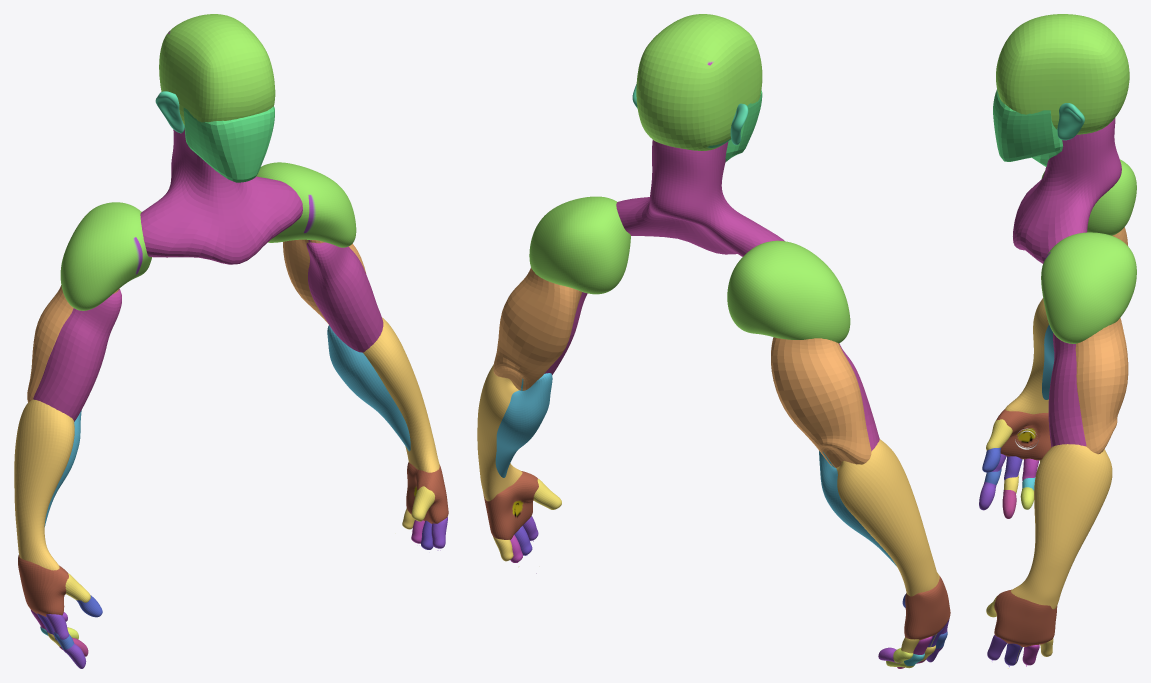
The model's file is full_rigg.glb.
3 views of the same model, side by side, from view 1: azimuth 30°, elevation 25°; view 2: azimuth 150°, elevation 25°; view 3: azimuth 270°, elevation 25° (orthographic). The views are drawn at different scales.
Visible parts, largest first — view 1: head&shoulder, bicep_right, right_forearm, left_forearm, bicep_left, Circle, left_palm; view 2: head&shoulder, bicep_right, right_forearm, bicep_left, left_forearm, left_palm, Circle; view 3: head&shoulder, left_forearm, bicep_left, left_palm, Circle, right_forearm, right_middle, right_index, right_ring, right_thumb.
Boxes of the visible parts, box(x1,y1,x2,y2) form: head&shoulder: box(60, 14, 356, 310); bicep_right: box(27, 285, 121, 421); right_forearm: box(14, 399, 81, 570); left_forearm: box(327, 317, 439, 472); bicep_left: box(283, 239, 383, 352); Circle: box(18, 550, 440, 640); left_palm: box(402, 462, 448, 549); head&shoulder: box(529, 14, 850, 343); bicep_right: box(771, 337, 879, 467); right_forearm: box(819, 439, 939, 596); bicep_left: box(493, 268, 587, 390); left_forearm: box(477, 365, 552, 501); left_palm: box(483, 471, 561, 562); Circle: box(516, 540, 950, 654); head&shoulder: box(993, 14, 1136, 343); left_forearm: box(1011, 444, 1112, 609); bicep_left: box(1048, 318, 1128, 454); left_palm: box(986, 589, 1057, 665); Circle: box(986, 409, 1051, 666); right_forearm: box(1005, 298, 1054, 414); right_middle: box(1002, 475, 1018, 668); right_index: box(979, 468, 1001, 510); right_ring: box(1020, 477, 1035, 509); right_thumb: box(982, 447, 1000, 472).
Bounding box in the file's own units: 1.9 × 2.52 × 0.6236.
1 material, 1 textured.
